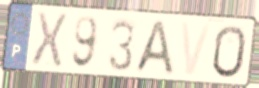3: (108, 16, 135, 74)
9: (71, 15, 101, 70)
A: (131, 18, 176, 77)
O: (211, 23, 248, 80)
V: (179, 20, 215, 77)
X: (29, 10, 69, 69)
